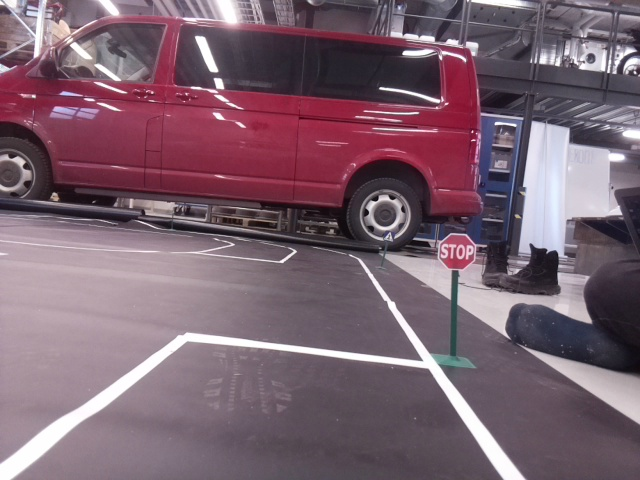Stop: (438, 233, 476, 271)
